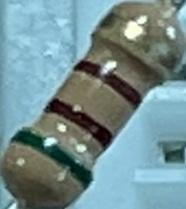Brown: (43, 92, 119, 153), (72, 55, 149, 113)
Green: (8, 125, 99, 195)
Side-Silver: (95, 8, 185, 81)
